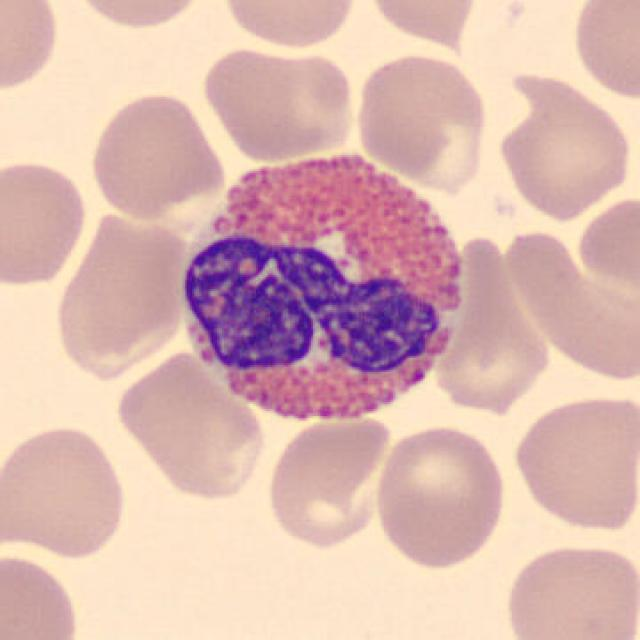Eosinophil: (167, 132, 482, 439)
RBC: (48, 205, 192, 379), (112, 346, 270, 502), (506, 221, 640, 388), (492, 72, 634, 222), (372, 420, 510, 573), (350, 48, 491, 188), (198, 42, 358, 164), (86, 88, 228, 222), (508, 390, 638, 534), (0, 420, 132, 560), (443, 233, 546, 411), (263, 411, 393, 552), (499, 539, 638, 640), (0, 155, 91, 289), (0, 548, 84, 640), (567, 0, 638, 104), (217, 0, 361, 51), (572, 190, 638, 300), (0, 0, 64, 97), (361, 0, 483, 48), (63, 0, 214, 32)
